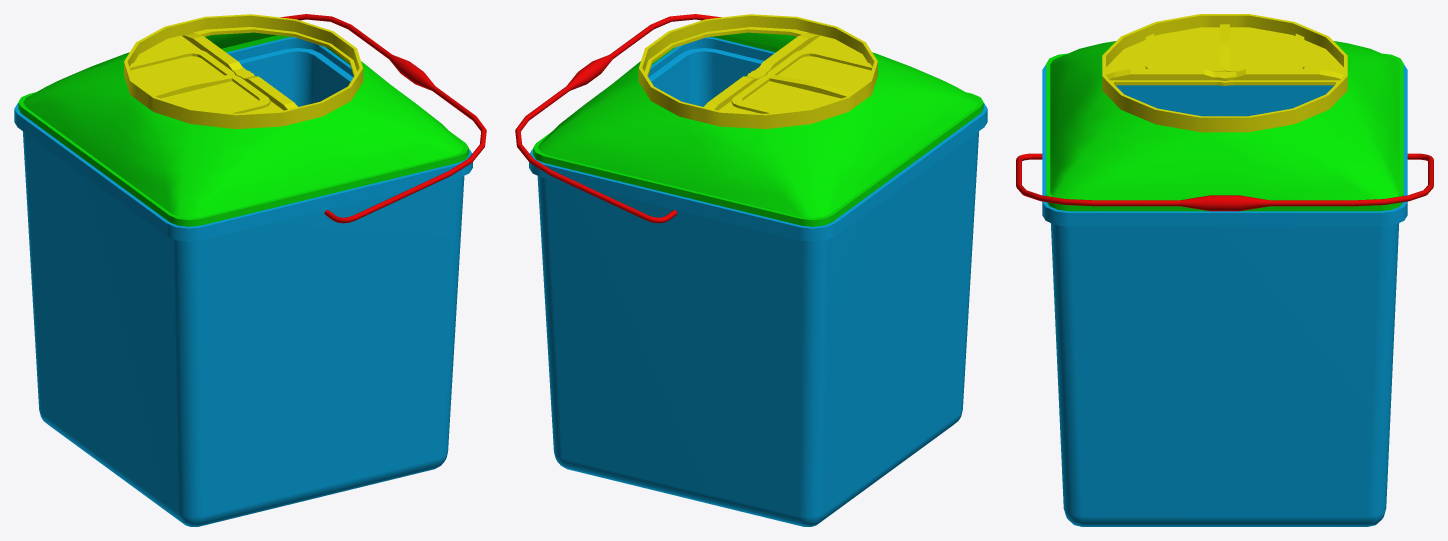
File: Deposito_LowPoly_v1.fbx
The picture shows the model from 3 angles, left to right: view 1: azimuth 30°, elevation 25°; view 2: azimuth 150°, elevation 25°; view 3: azimuth 270°, elevation 25°; orthographic projection. The views are drawn at different scales.
Parts seen in each view (by area): view 1: pCube3, polySurface2, pCylinder4, pTorus4, pCylinder5; view 2: pCube3, polySurface2, pCylinder4, pTorus4, pCylinder5; view 3: pCube3, polySurface2, pCylinder4, pTorus4, pCylinder5.
Part boxes in pixels (<box>): pCube3: <box>14,37,472,526</box>; polySurface2: <box>18,32,468,226</box>; pCylinder4: <box>124,14,363,128</box>; pTorus4: <box>280,14,486,223</box>; pCylinder5: <box>129,49,270,113</box>; pCube3: <box>529,37,987,526</box>; polySurface2: <box>533,32,983,226</box>; pCylinder4: <box>638,14,877,128</box>; pTorus4: <box>515,14,721,223</box>; pCylinder5: <box>731,49,872,113</box>; pCube3: <box>1042,64,1407,526</box>; polySurface2: <box>1046,41,1403,211</box>; pCylinder4: <box>1102,14,1347,132</box>; pTorus4: <box>1016,153,1433,211</box>; pCylinder5: <box>1145,24,1304,71</box>.
Bounding box in the file's own units: 26.14 × 29.22 × 27.72.
